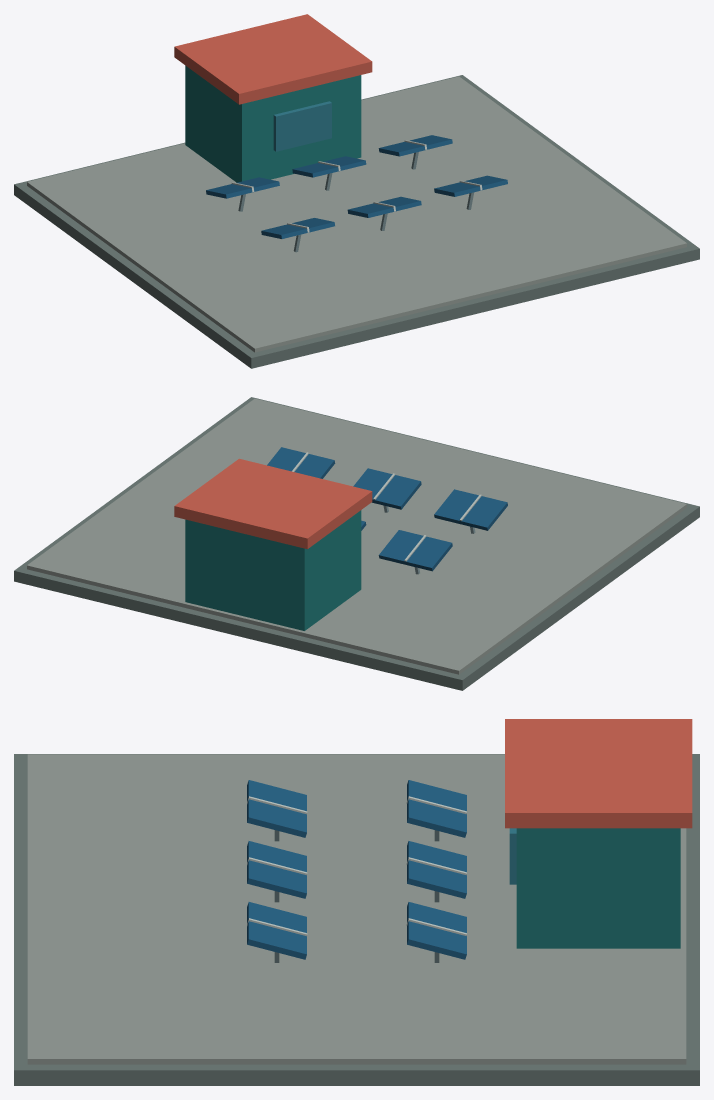
File: solar_lv1.glb
3 views of the same model, one above another, from view 1: azimuth 30°, elevation 25°; view 2: azimuth 150°, elevation 25°; view 3: azimuth 270°, elevation 25° (orthographic). The views are drawn at different scales.
Parts seen in each view (by area): view 1: rough, metallic, glossy; view 2: rough, metallic; view 3: rough, metallic.
Part boxes in pixels (x1,y1,x2,y2): rough: (14,14,699,368); metallic: (206,135,507,252); glossy: (273,101,331,151); rough: (14,397,699,690); metallic: (267,447,507,574); rough: (14,719,699,1085); metallic: (247,780,466,962).
Bounding box in the file's own units: 9.6 × 2.29 × 8.8.
